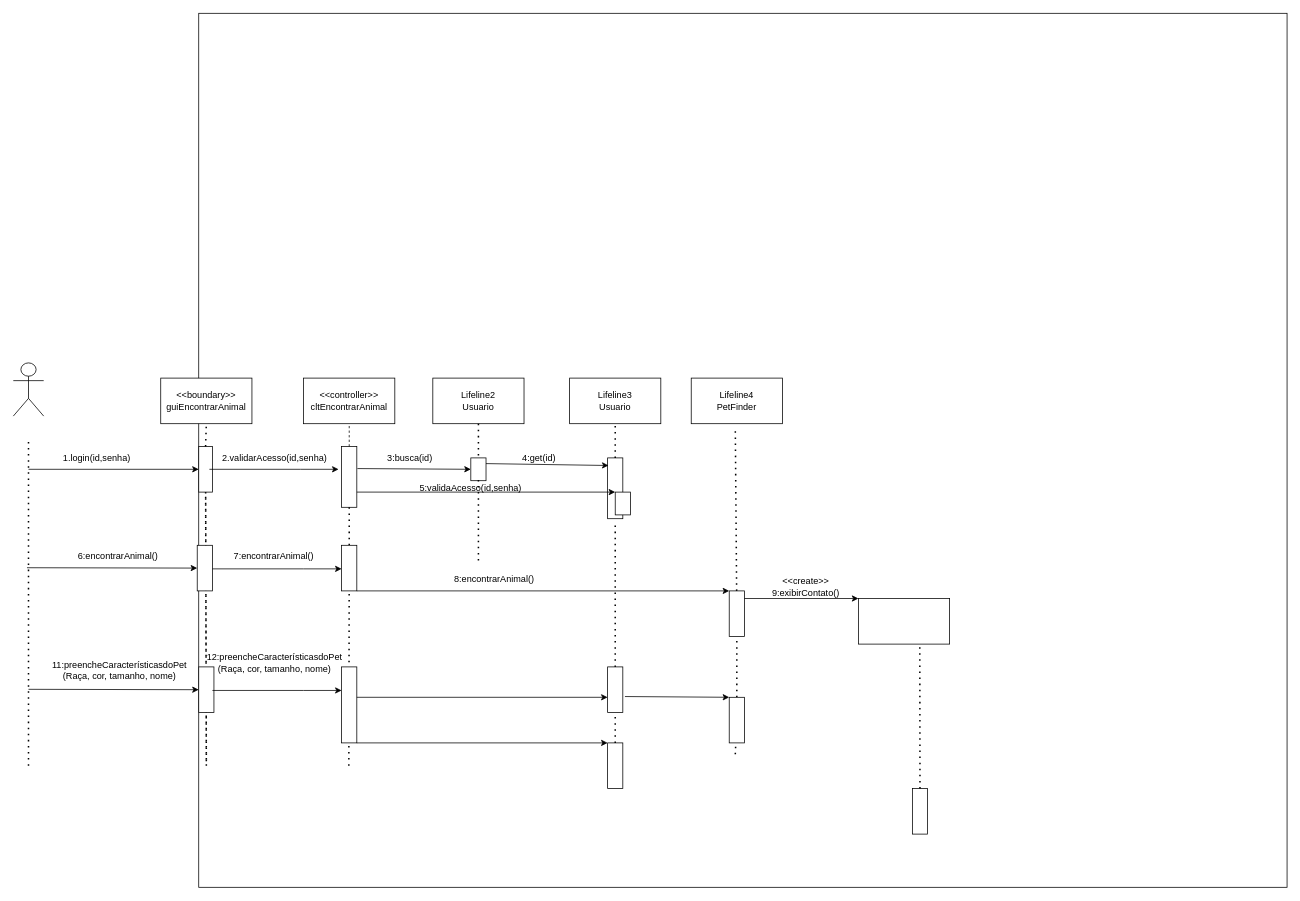
This 1300x901 diagram has some shape labels left out. Each missing label, with the centre of its shape:
"Lifeline5 Exibe contato do dono do animal" belongs at (x=904, y=621).
"Usuario" belongs at (x=28, y=389).
